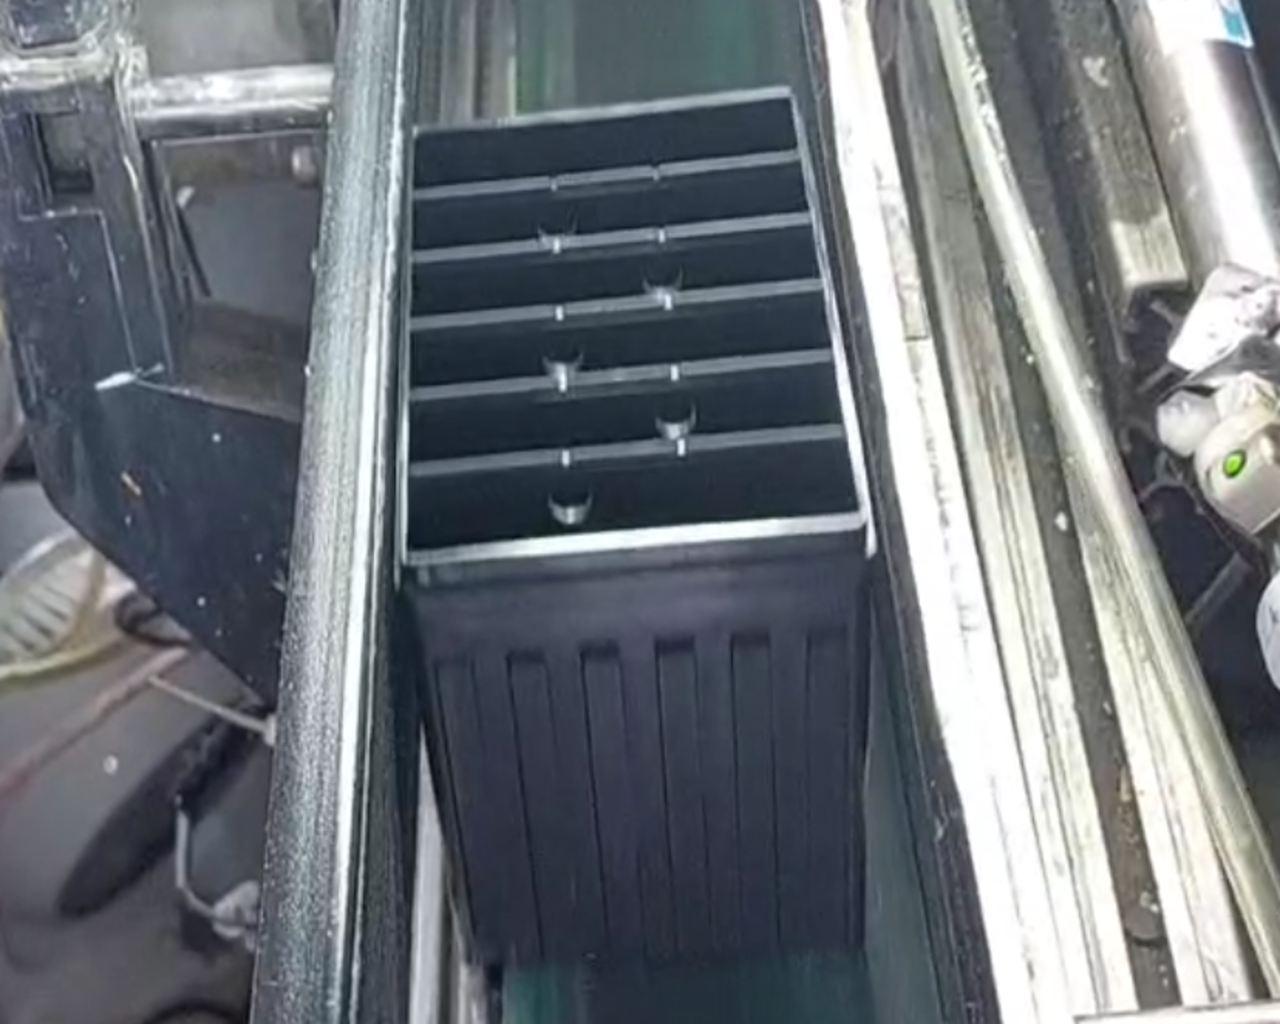box: (378, 75, 885, 620)
round: (633, 379, 712, 443), (535, 466, 606, 532), (624, 246, 691, 304), (529, 326, 597, 381), (519, 194, 590, 247)
